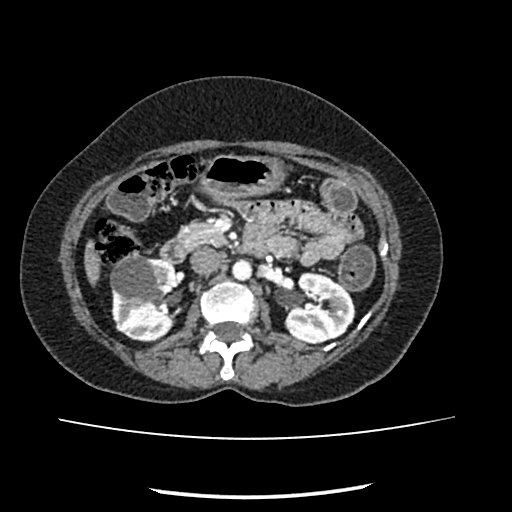aorta: (229, 258, 254, 282)
